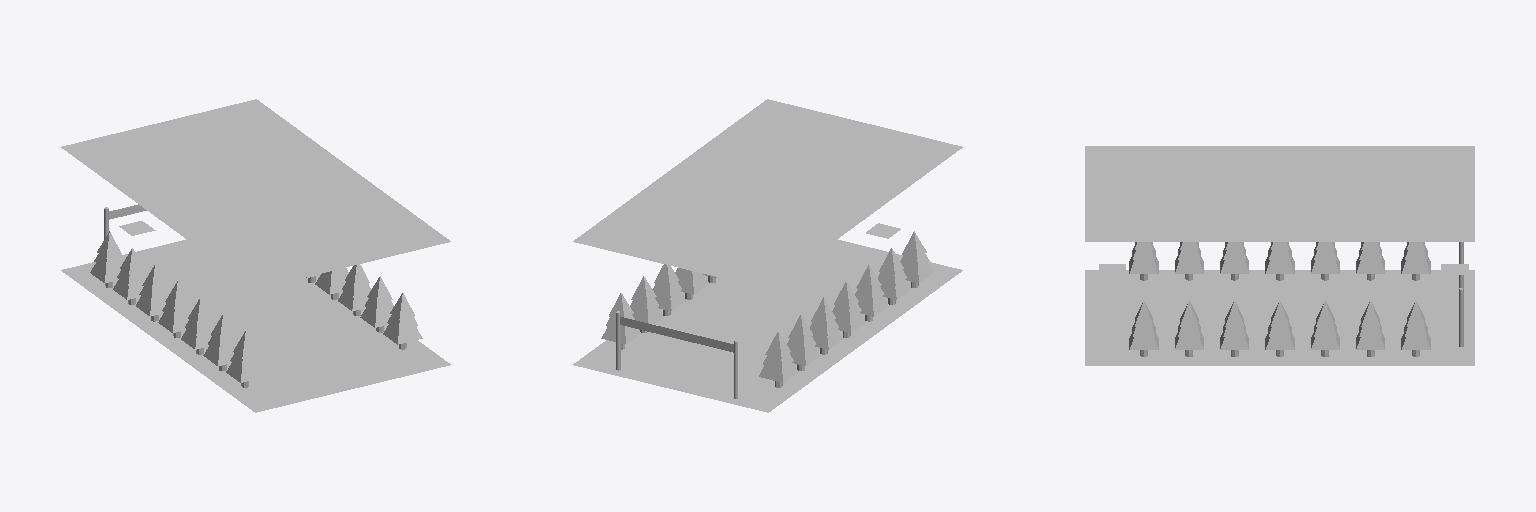
The model's file is rain.obj.
3 renders of one model, left to right at view 1: azimuth 30°, elevation 25°; view 2: azimuth 150°, elevation 25°; view 3: azimuth 270°, elevation 25°, orthographic.
Visible parts, largest first — view 1: 평면.008, 평면.002_평면.001, 평면.001_평면.027, 평면_평면.026, 4_Cylinder.003_4_Cylinder.001, 4_Cylinder.008_4_Cylinder.001, 4_Cylinder.010_4_Cylinder.001, 4_Cylinder.013_4_Cylinder.001, 4_Cylinder.009_4_Cylinder.001, 4_Cylinder.014_4_Cylinder.001, 4_Cylinder.001_4_Cylinder.001, 4_Cylinder.011_4_Cylinder.001 (+3 smaller); view 2: 평면.008, 평면.002_평면.001, 평면.001_평면.027, 평면_평면.026, 4_Cylinder.011_4_Cylinder.001, 4_Cylinder.013_4_Cylinder.001, 4_Cylinder.010_4_Cylinder.001, 4_Cylinder.014_4_Cylinder.001, 4_Cylinder.009_4_Cylinder.001, 4_Cylinder.008_4_Cylinder.001, 4_Cylinder.002, 4_Cylinder.004_4_Cylinder.001 (+4 smaller); view 3: 평면.008, 평면.002_평면.001, 평면_평면.026, 평면.001_평면.027, 4_Cylinder.003_4_Cylinder.001, 4_Cylinder.005_4_Cylinder.001, 4_Cylinder.006_4_Cylinder.001, 4_Cylinder.001_4_Cylinder.001, 4_Cylinder.002_4_Cylinder.001, 4_Cylinder.004_4_Cylinder.001, 4_Cylinder.007_4_Cylinder.001, 4_Cylinder.002 (+6 smaller).
Part boxes in pixels (x1,y1,x2,y2): 평면.008: (61, 99, 450, 289); 평면.002_평면.001: (61, 239, 450, 412); 평면.001_평면.027: (189, 244, 385, 377); 평면_평면.026: (138, 257, 321, 392); 4_Cylinder.003_4_Cylinder.001: (383, 293, 422, 349); 4_Cylinder.008_4_Cylinder.001: (226, 331, 264, 387); 4_Cylinder.010_4_Cylinder.001: (181, 297, 213, 354); 4_Cylinder.013_4_Cylinder.001: (136, 265, 168, 321); 4_Cylinder.009_4_Cylinder.001: (203, 315, 236, 370); 4_Cylinder.014_4_Cylinder.001: (113, 248, 145, 304); 4_Cylinder.001_4_Cylinder.001: (360, 276, 393, 332); 4_Cylinder.011_4_Cylinder.001: (90, 231, 123, 287); 평면.008: (573, 99, 962, 289); 평면.002_평면.001: (573, 239, 962, 412); 평면.001_평면.027: (638, 244, 834, 377); 평면_평면.026: (702, 257, 885, 392); 4_Cylinder.011_4_Cylinder.001: (759, 331, 797, 387); 4_Cylinder.013_4_Cylinder.001: (810, 297, 842, 354); 4_Cylinder.010_4_Cylinder.001: (855, 265, 887, 321); 4_Cylinder.014_4_Cylinder.001: (787, 315, 820, 370); 4_Cylinder.009_4_Cylinder.001: (878, 248, 910, 304); 4_Cylinder.008_4_Cylinder.001: (900, 231, 933, 287); 4_Cylinder.002: (832, 281, 865, 337); 4_Cylinder.004_4_Cylinder.001: (652, 264, 685, 315); 평면.008: (1085, 146, 1474, 241); 평면.002_평면.001: (1085, 270, 1474, 365); 평면_평면.026: (1126, 298, 1440, 305); 평면.001_평면.027: (1099, 329, 1458, 336); 4_Cylinder.003_4_Cylinder.001: (1129, 301, 1158, 356); 4_Cylinder.005_4_Cylinder.001: (1265, 301, 1294, 356); 4_Cylinder.006_4_Cylinder.001: (1401, 301, 1430, 356); 4_Cylinder.001_4_Cylinder.001: (1175, 300, 1203, 356); 4_Cylinder.002_4_Cylinder.001: (1220, 300, 1248, 356); 4_Cylinder.004_4_Cylinder.001: (1311, 300, 1339, 356); 4_Cylinder.007_4_Cylinder.001: (1356, 300, 1384, 356); 4_Cylinder.002: (1265, 242, 1294, 280).
Bounding box in the file's own units: 50 × 30 × 86.